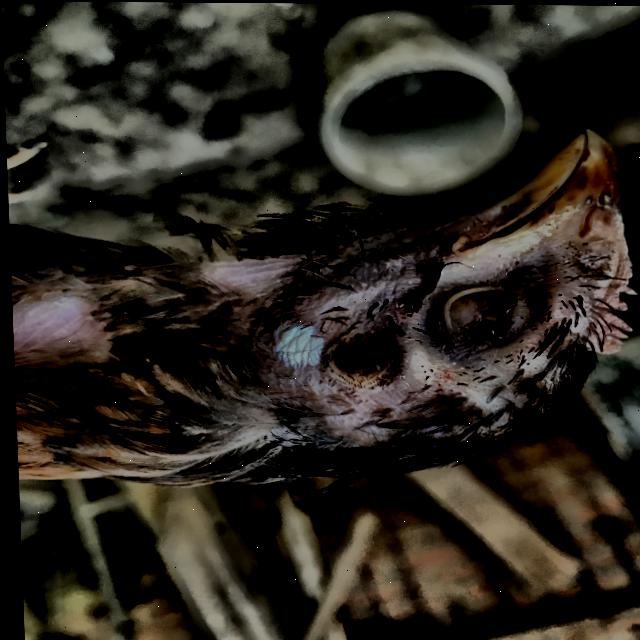Coryza: (195, 89, 640, 487)
